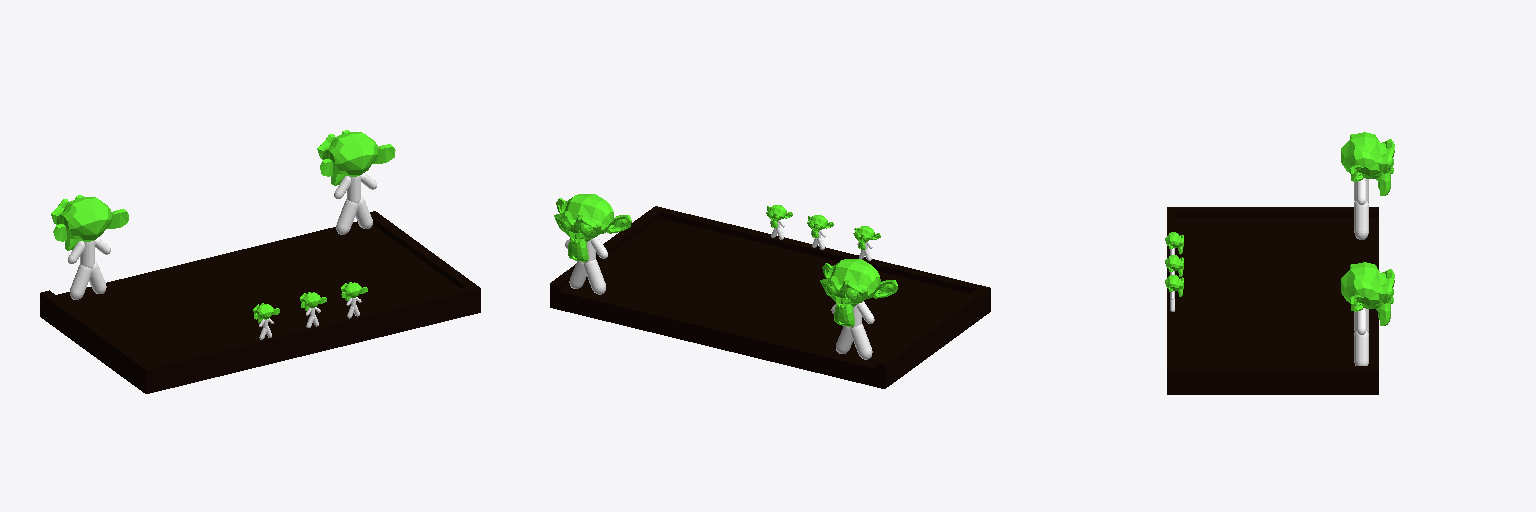
Rendered from black_storage.obj.
3 renders of one model, left to right at view 1: azimuth 30°, elevation 25°; view 2: azimuth 150°, elevation 25°; view 3: azimuth 270°, elevation 25°, orthographic.
Visible parts, largest first — view 1: Cube, Suzanne.001, Suzanne.002; view 2: Cube, Suzanne.001, Suzanne.002; view 3: Cube, Suzanne.001, Suzanne.002.
Boxes of the visible parts, <box> form: Cube: <box>40,211,480,393</box>; Suzanne.001: <box>317,130,395,185</box>; Suzanne.002: <box>51,195,128,250</box>; Cube: <box>550,206,990,388</box>; Suzanne.001: <box>554,194,631,261</box>; Suzanne.002: <box>820,259,897,326</box>; Cube: <box>1167,207,1378,394</box>; Suzanne.001: <box>1341,262,1394,325</box>; Suzanne.002: <box>1341,132,1394,195</box>.
Bounding box in the file's own units: 2.62 × 0.8075 × 1.48.